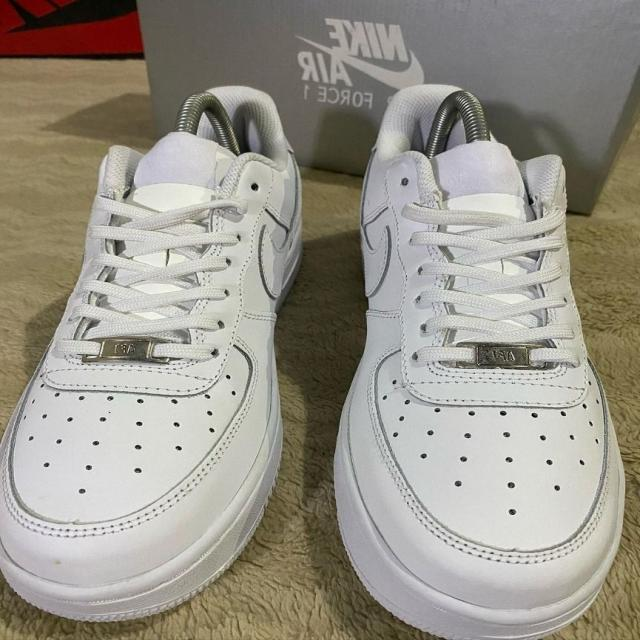nike fake air force: (1, 87, 314, 622), (341, 84, 630, 640)
